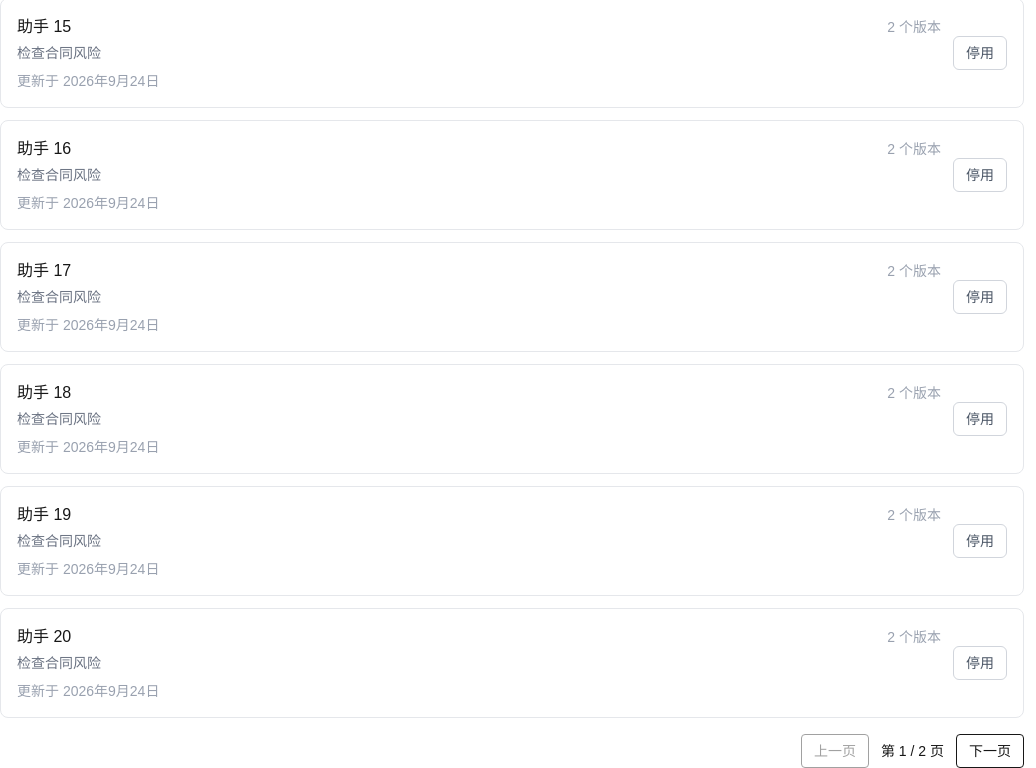
助手列表 › 超过一页时可以翻页
(page scrolled)
Expected: the text "助手 21" is not shown
Click the button "下一页" at (990, 751), box 956,734 -> 1024,767
(page scrolled)
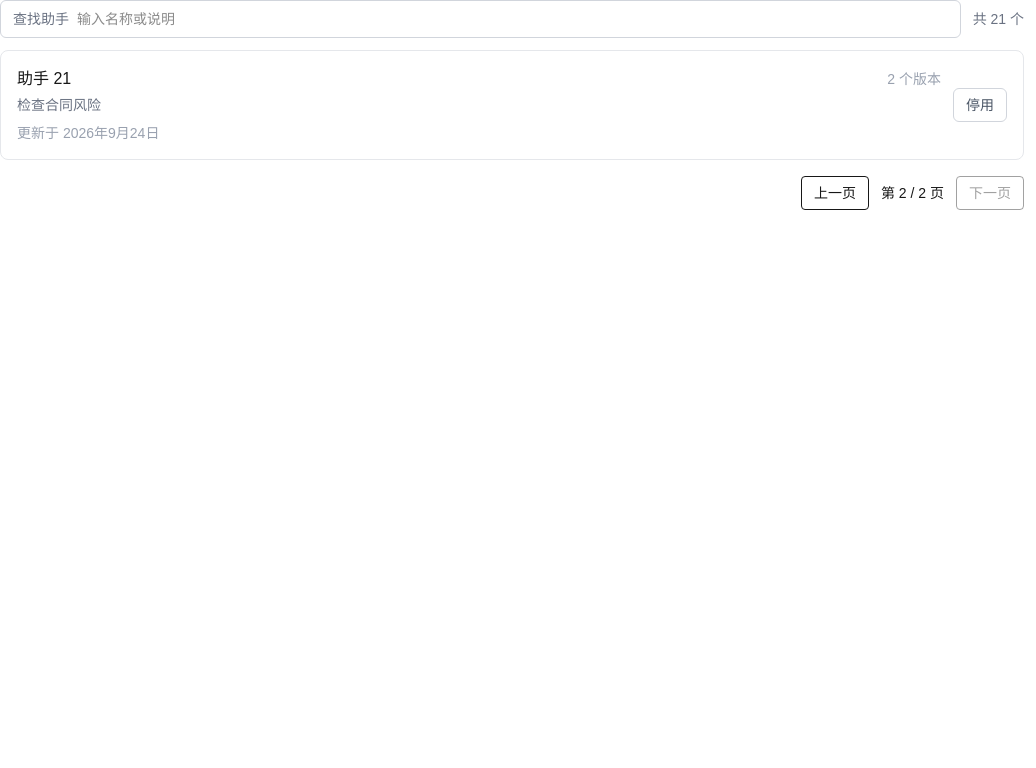
Now the text "助手 21" is shown, box 17,67 -> 71,91
Now the text "第 2 / 2 页" is shown, box 881,183 -> 944,203
